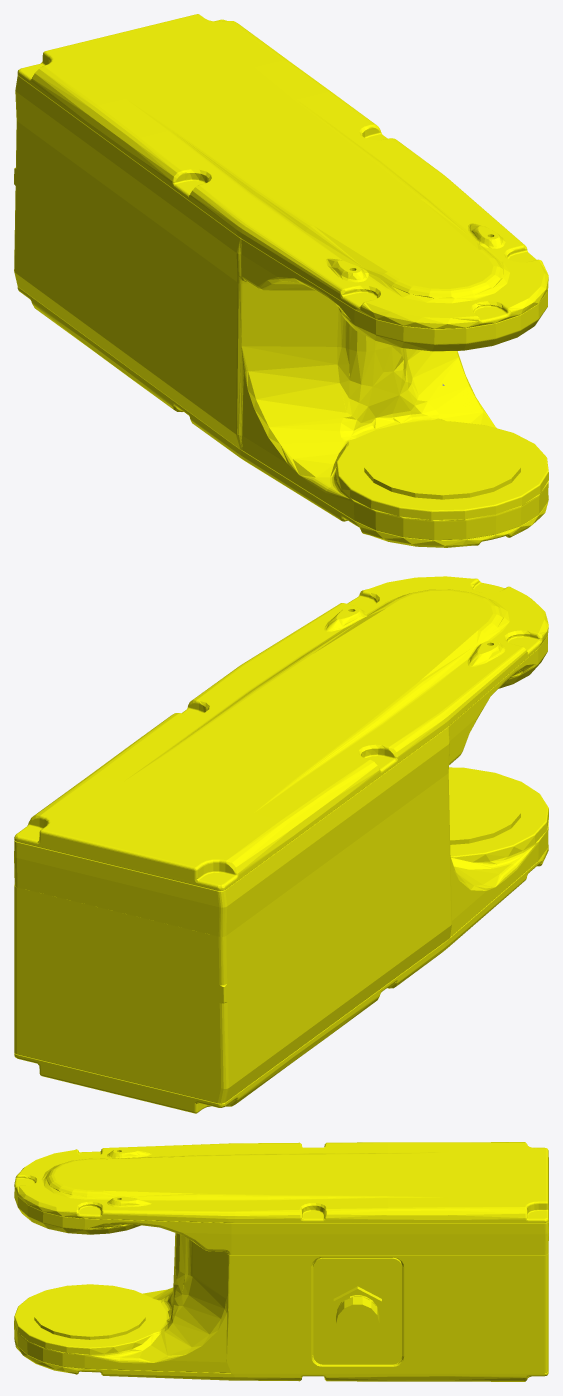
3 renders of one model, top to bottom at view 1: azimuth 30°, elevation 25°; view 2: azimuth 150°, elevation 25°; view 3: azimuth 270°, elevation 25°, orthographic. The views are drawn at different scales.
Visible parts, largest first — view 1: node; view 2: node; view 3: node.
Boxes of the visible parts, x1,y1,x2,y2 form: node: [14, 14, 548, 547]; node: [14, 576, 548, 1113]; node: [14, 1142, 548, 1381].
Size of the model in its own units: 100 by 95 by 265.
